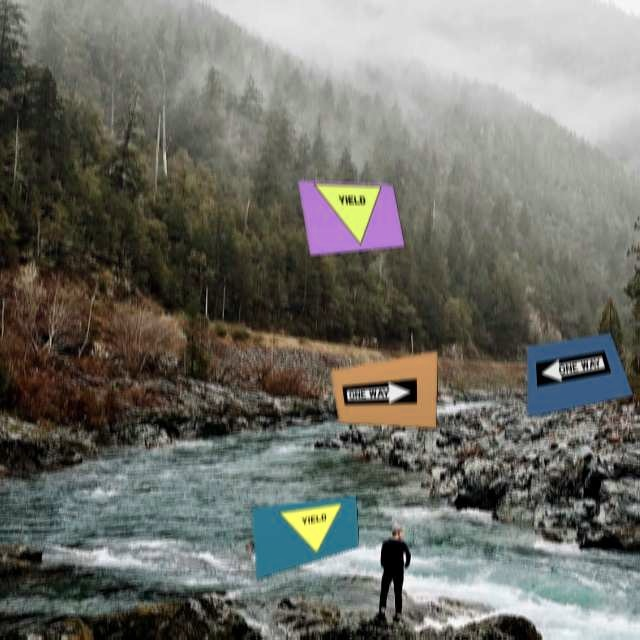ONE_WAY_ left: (535, 352, 613, 388)
ONE_WAY_ right: (343, 379, 421, 412)
YIELD: (314, 185, 393, 249), (279, 501, 347, 565)
